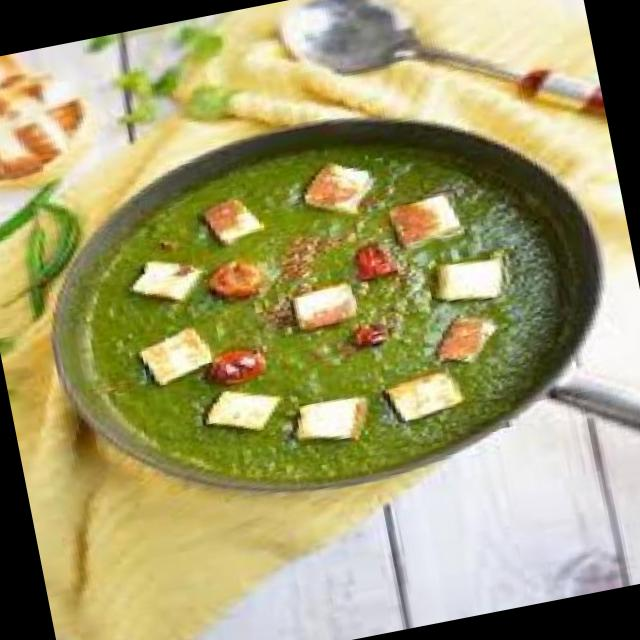palak_paneer: (54, 104, 600, 521)
